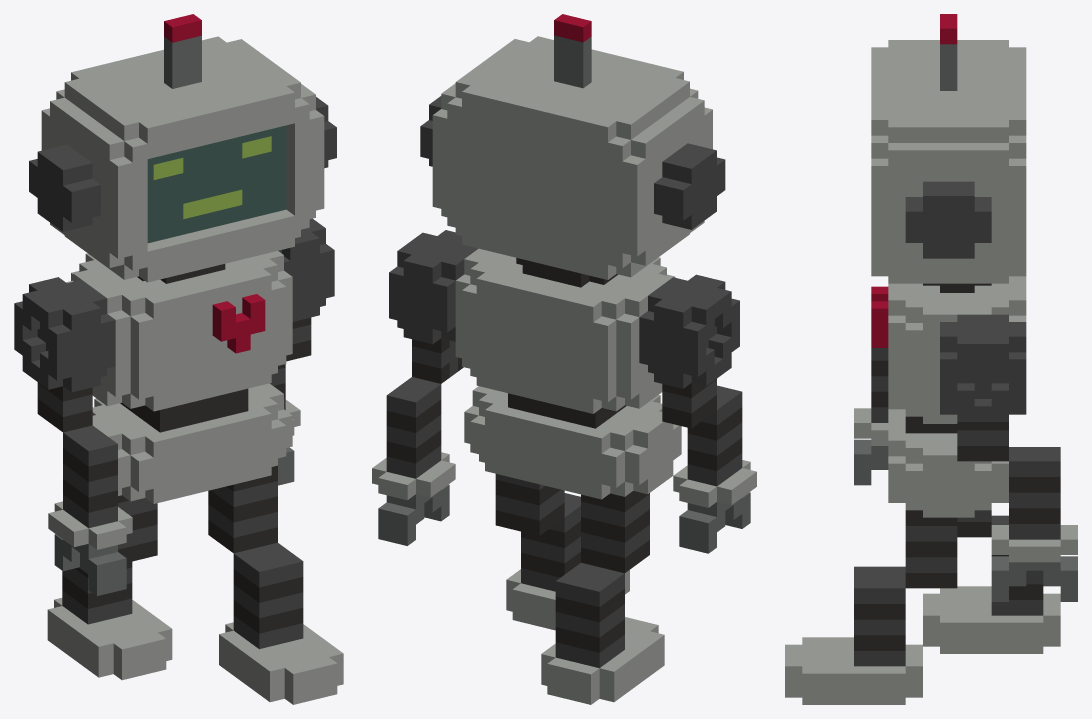
File: player_main_walk_2.fbx
3 renders of one model, left to right at view 1: azimuth 30°, elevation 25°; view 2: azimuth 150°, elevation 25°; view 3: azimuth 270°, elevation 25°, orthographic. The views are drawn at different scales.
Visible parts, largest first — view 1: model_3; view 2: model_3; view 3: model_3.
Part boxes in pixels (left/top/right/bottom): model_3: left=14, top=14, right=343, bottom=704; model_3: left=372, top=14, right=756, bottom=704; model_3: left=785, top=14, right=1077, bottom=704.
Bounding box in the file's own units: 200 × 170 × 410.
